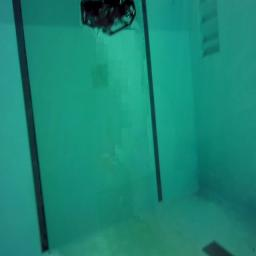Full: (80, 0, 136, 36)
